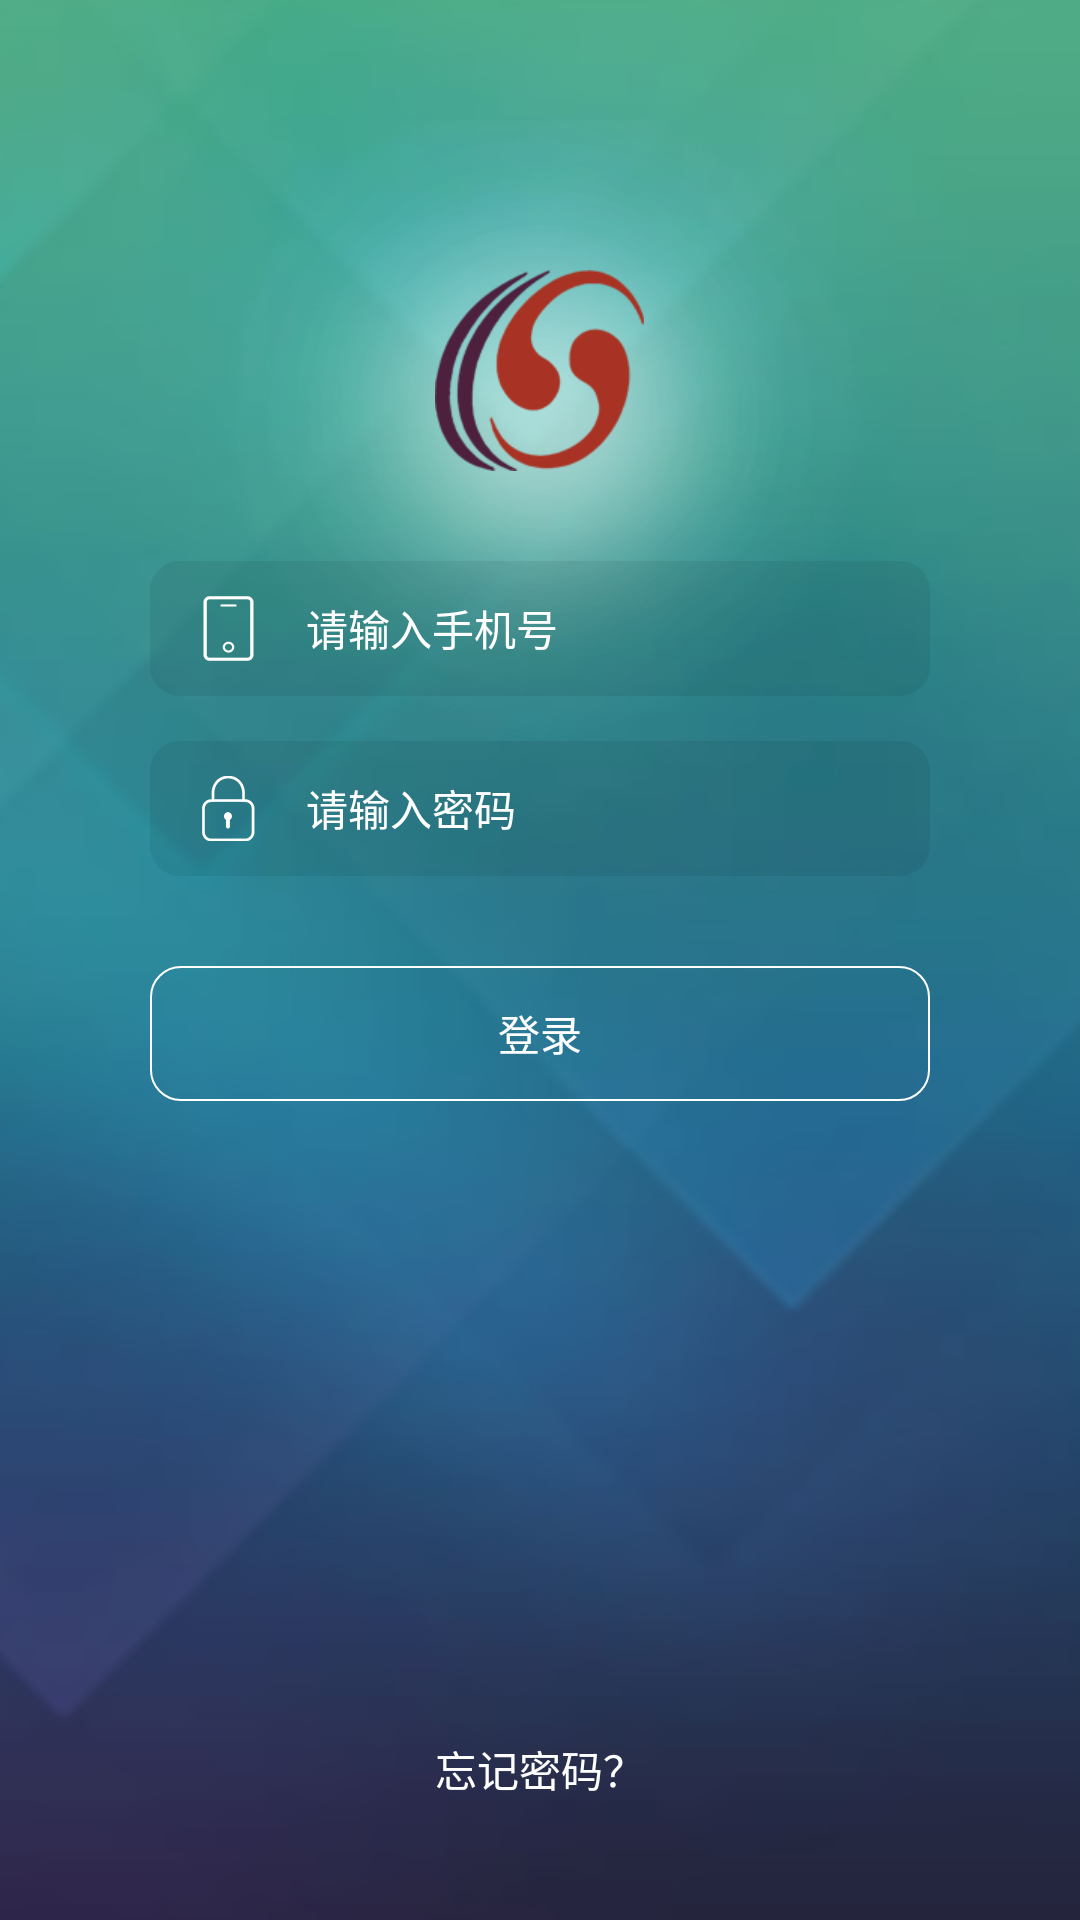

Icons on this 1080 × 1920 Android screen, each with the point to tap as (x=x, y=y):
code login: (x=228, y=808)
phone login: (x=228, y=628)
